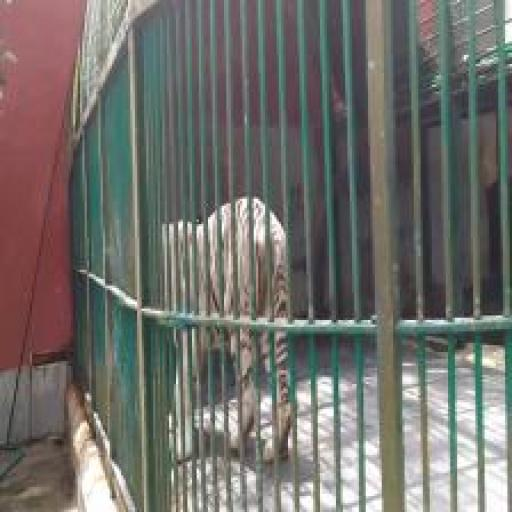Tiger: (160, 192, 302, 462)
